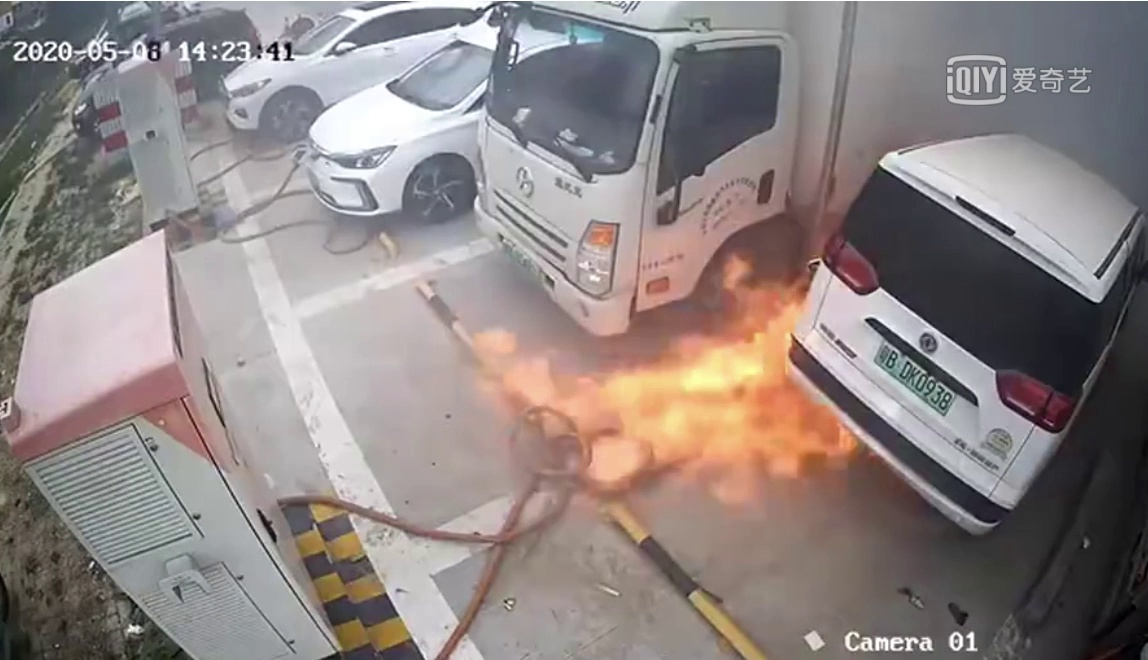fire: (484, 287, 843, 482)
